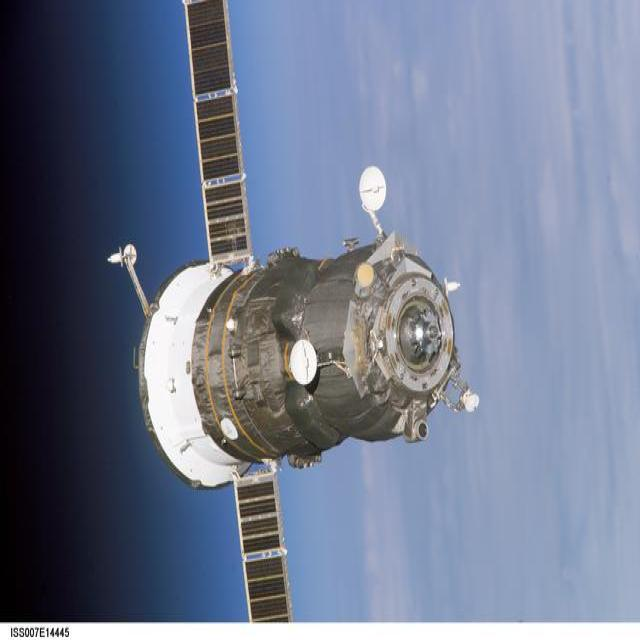medium_debris: (110, 0, 454, 621)
